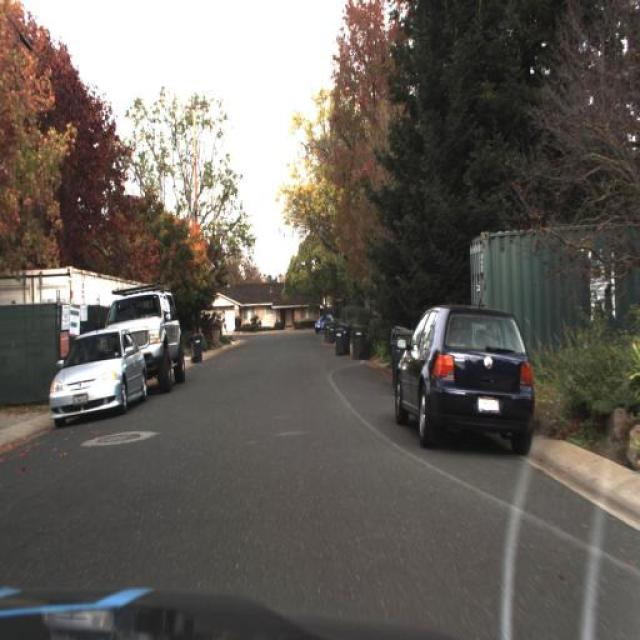car: (376, 284, 540, 468), (39, 327, 148, 435), (98, 279, 187, 387), (142, 270, 192, 396), (314, 312, 334, 336)
